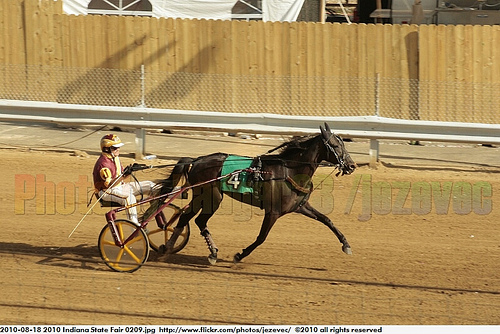horse: (156, 124, 357, 266)
